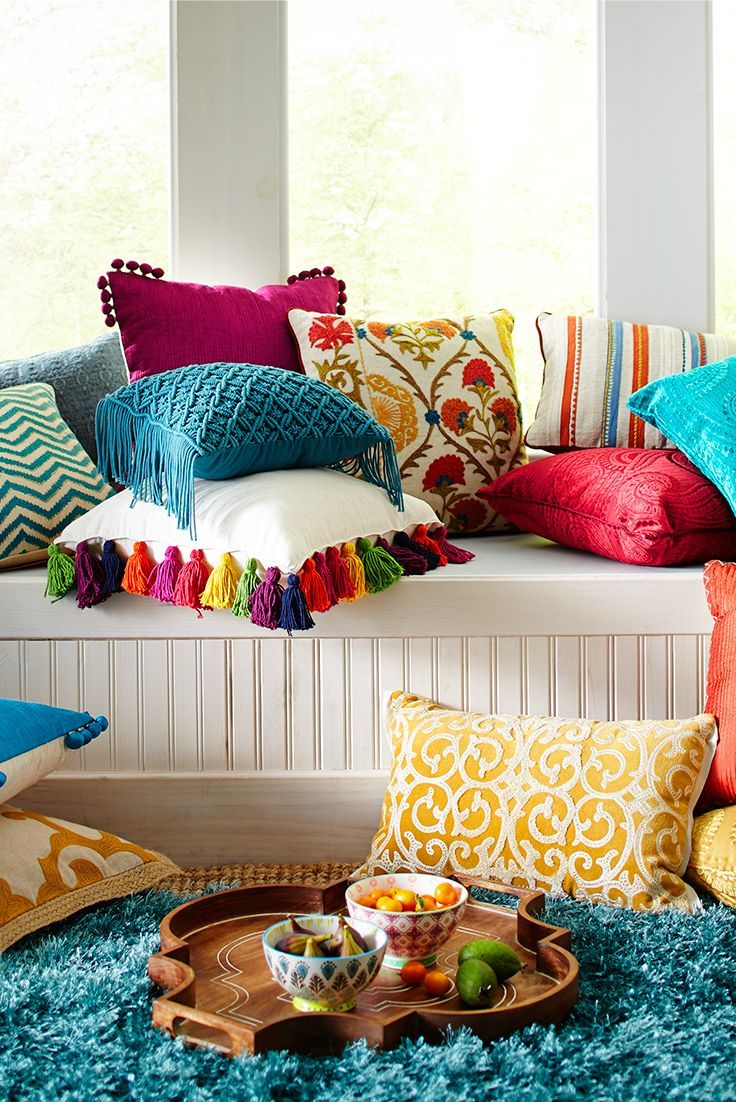biru: (110, 369, 378, 465), (643, 350, 736, 480)
coklat: (161, 874, 570, 1038)
merah: (117, 262, 329, 371), (488, 458, 714, 557)
